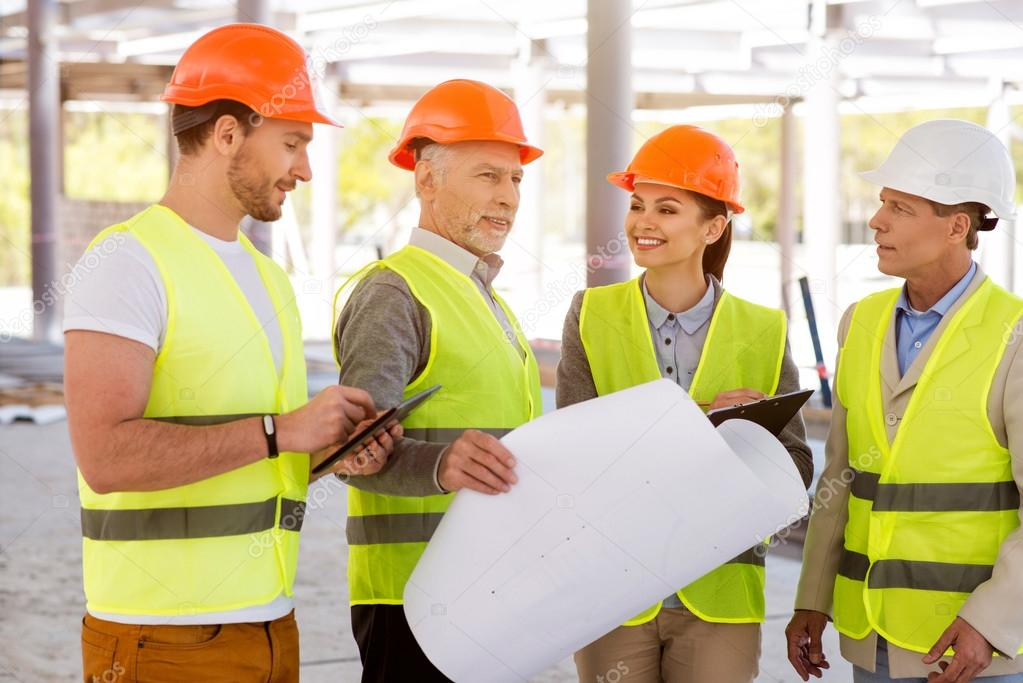casco: (161, 23, 348, 133), (856, 118, 1019, 229), (386, 77, 547, 173), (602, 124, 748, 218)
